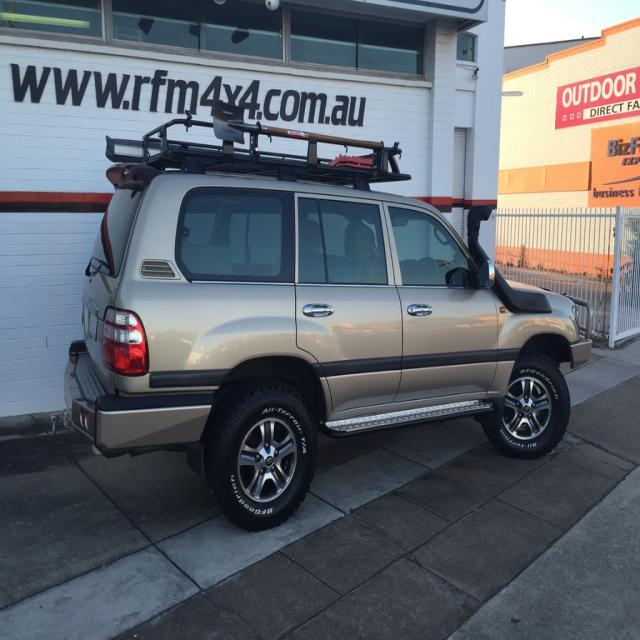Car: (51, 101, 594, 532)
